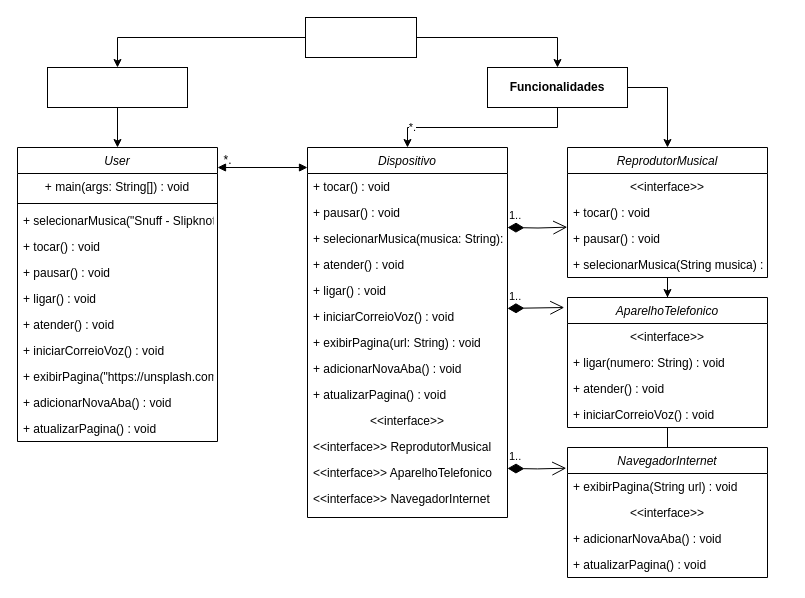
This 805x598 diagram has some shape labels left out. Here are the shapes that lost their labels. From the top down, the centre of each, then its label:
point 360,37: Iphone
point 117,87: Usuario
